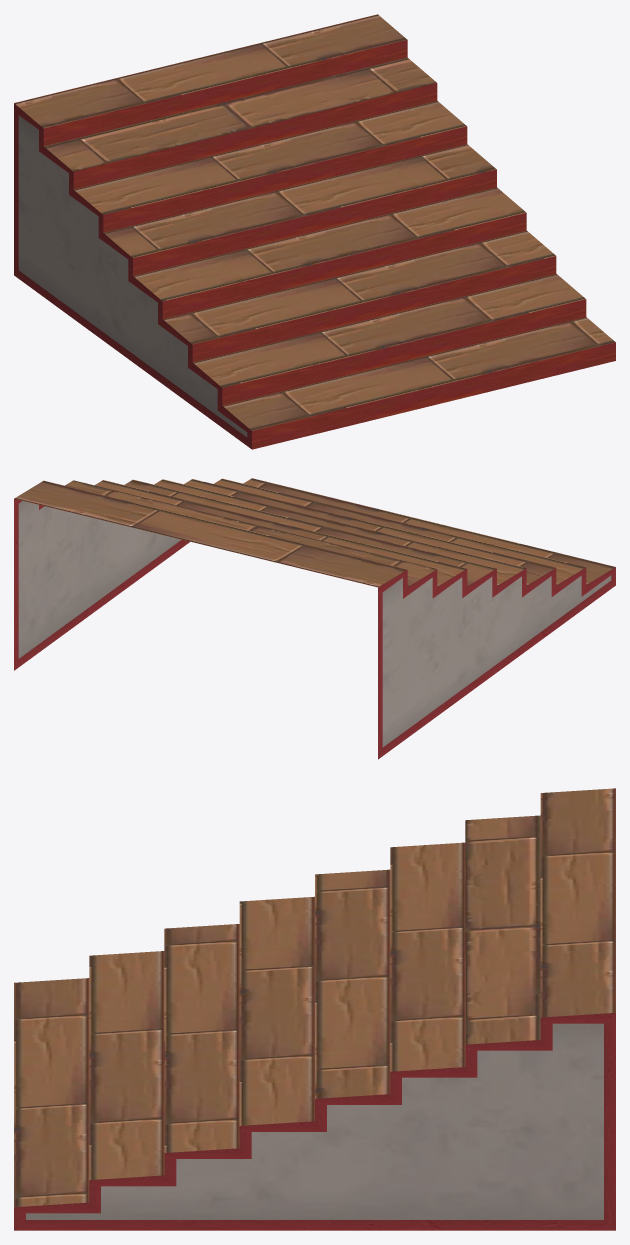
The model's file is pm-entrance-stairs.glb.
3 views of the same model, one above another, from view 1: azimuth 30°, elevation 25°; view 2: azimuth 150°, elevation 25°; view 3: azimuth 270°, elevation 25° (orthographic). The views are drawn at different scales.
Parts seen in each view (by area): view 1: EntranceStairs; view 2: EntranceStairs; view 3: EntranceStairs.
Boxes of the visible parts, box(x1,y1,x2,y2) form: EntranceStairs: box(14, 14, 615, 449); EntranceStairs: box(14, 478, 615, 759); EntranceStairs: box(14, 788, 615, 1230).
Bounding box in the file's own units: 4.03 × 1.82 × 4.57.
Materials: 2 (2 with a texture image).
